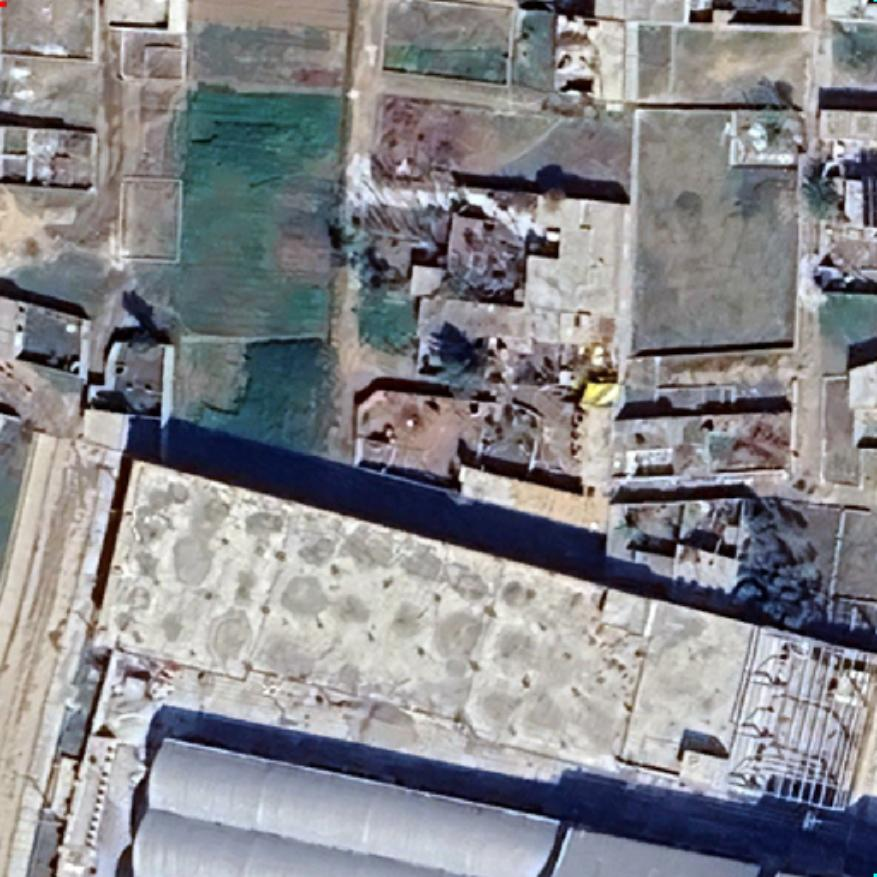Solarpanel: (858, 172, 876, 230)
